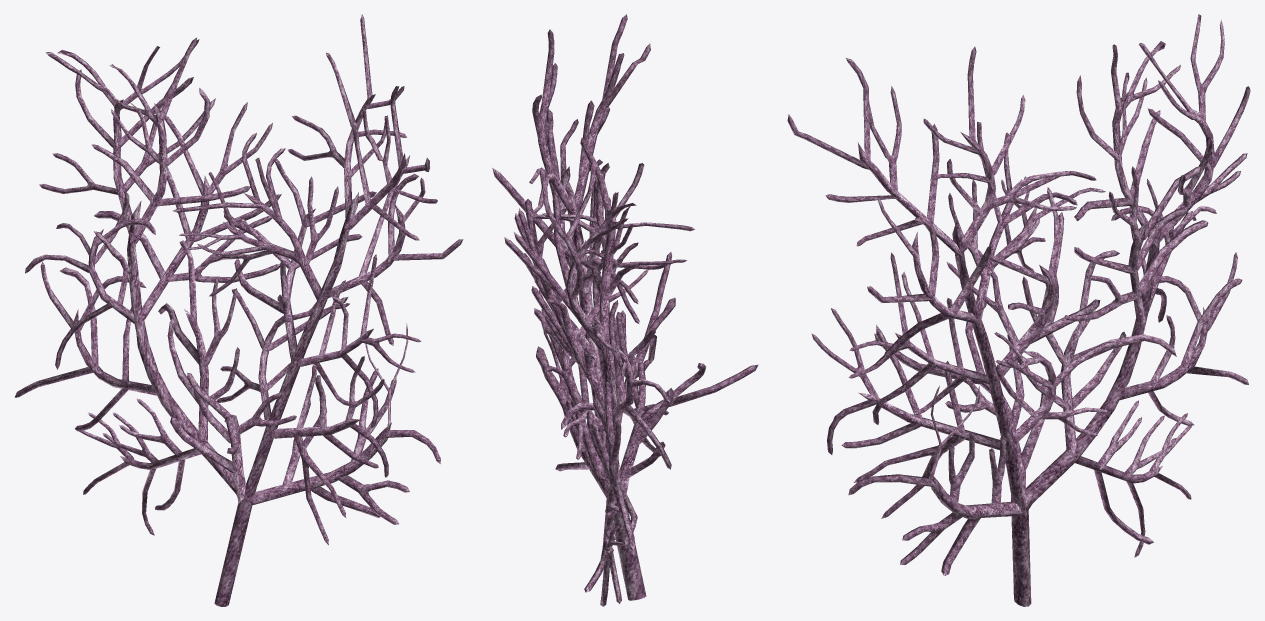
Rendered from FanCoralCluster.004_FBX_still.fbx.
3 renders of one model, left to right at view 1: azimuth 30°, elevation 25°; view 2: azimuth 150°, elevation 25°; view 3: azimuth 270°, elevation 25°, orthographic. The views are drawn at different scales.
Parts seen in each view (by area): view 1: FanCoralCluster.004_gameasset; view 2: FanCoralCluster.004_gameasset; view 3: FanCoralCluster.004_gameasset.
Boxes of the visible parts, x1,y1,x2,y2 form: FanCoralCluster.004_gameasset: (14,14,463,606); FanCoralCluster.004_gameasset: (492,14,758,606); FanCoralCluster.004_gameasset: (787,14,1250,606).
Size of the model in its own units: 3.03 by 5.79 by 3.93.
Materials: 1 (1 with a texture image).
